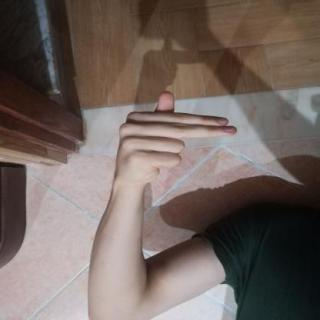GHAYN: (105, 83, 244, 192)
